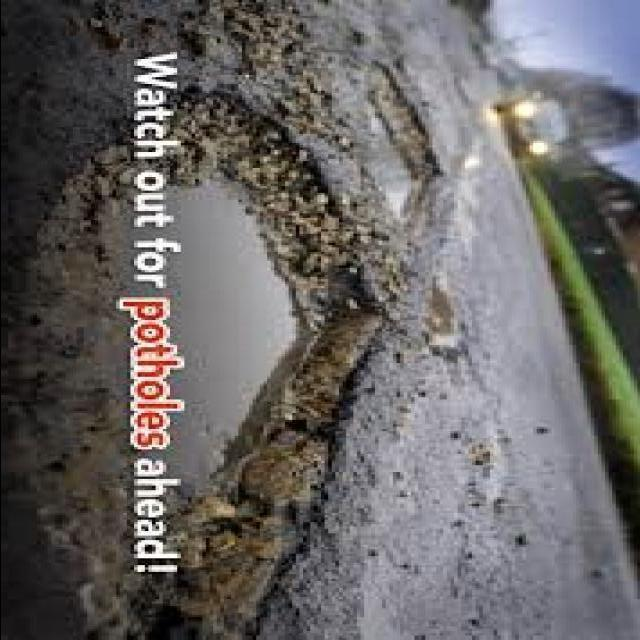pothole: (25, 52, 381, 639), (361, 62, 434, 218)
